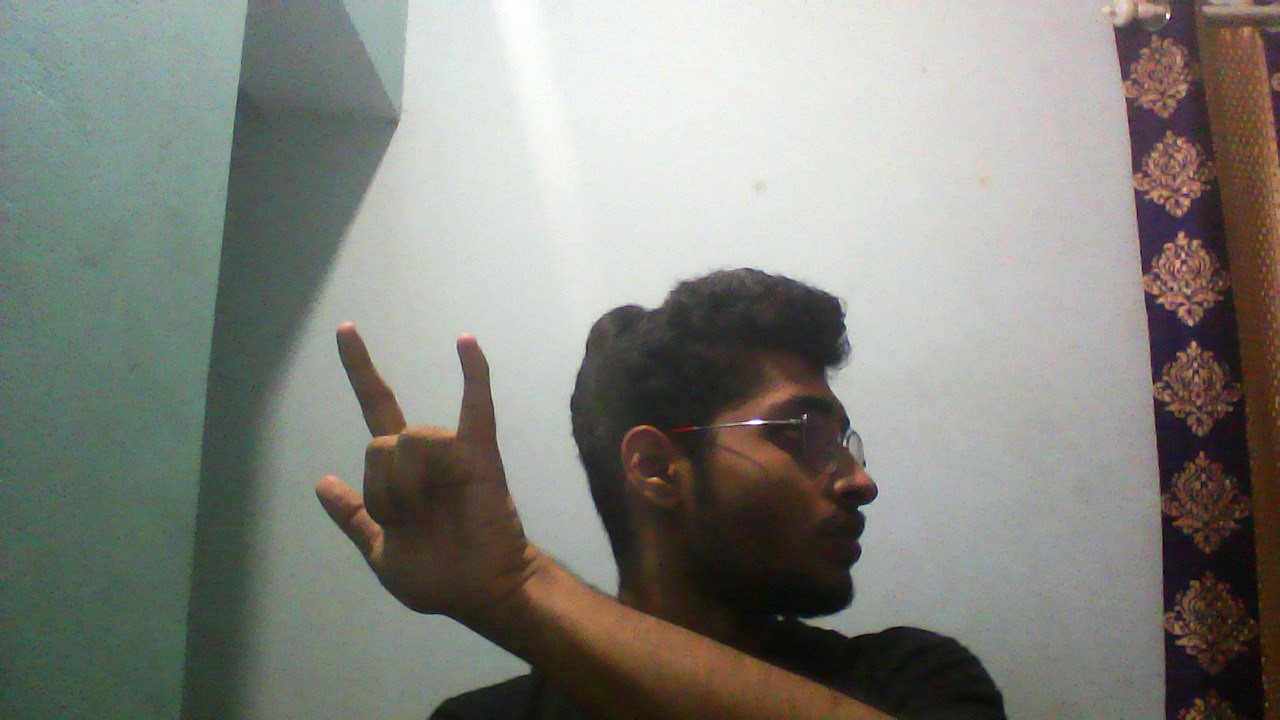I love you: (304, 317, 527, 616)
